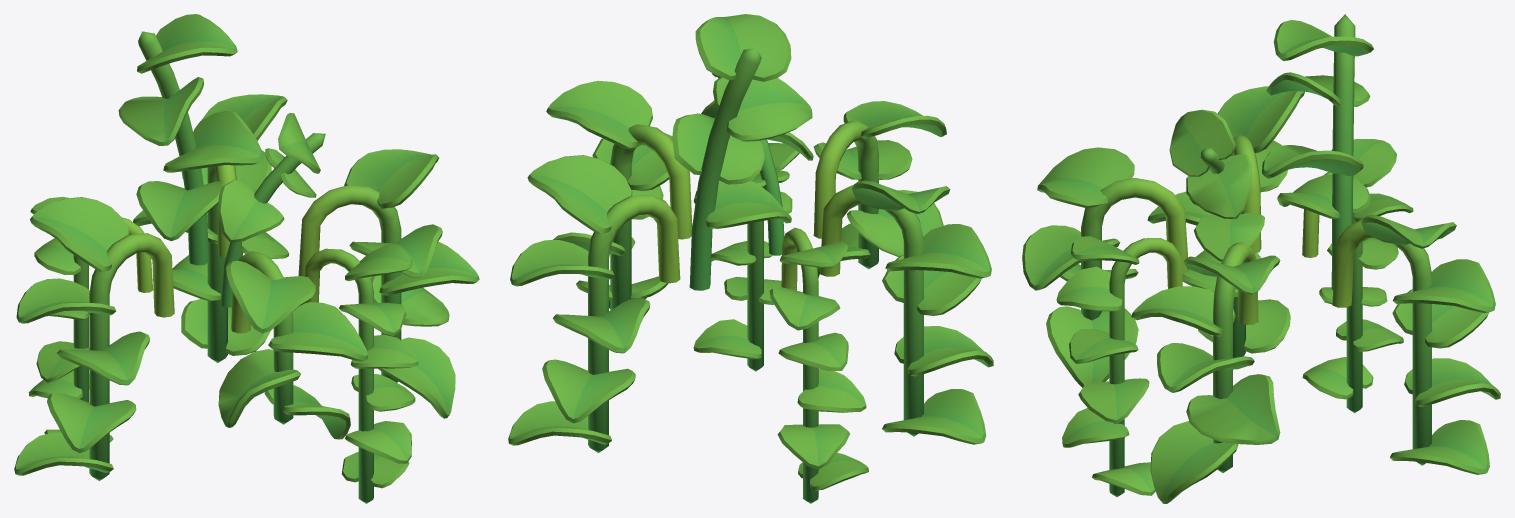
File: plant_pothos.glb
3 views of the same model, side by side, from view 1: azimuth 30°, elevation 25°; view 2: azimuth 150°, elevation 25°; view 3: azimuth 270°, elevation 25° (orthographic). The views are drawn at different scales.
Visible parts, largest first — view 1: pothos_plant_large; view 2: pothos_plant_large; view 3: pothos_plant_large.
Part boxes in pixels (bbox=[...]): pothos_plant_large: bbox=[14, 14, 479, 503]; pothos_plant_large: bbox=[508, 14, 993, 503]; pothos_plant_large: bbox=[1022, 14, 1500, 503].
Bounding box in the file's own units: 2.53 × 2.4 × 2.41.
Materials: 1 (1 with a texture image).
